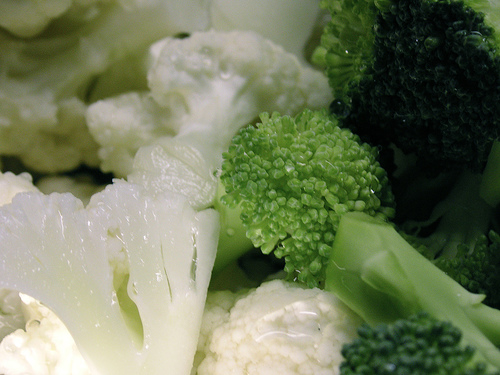cauliflower: (0, 143, 221, 374), (85, 28, 333, 178), (0, 30, 117, 172)
